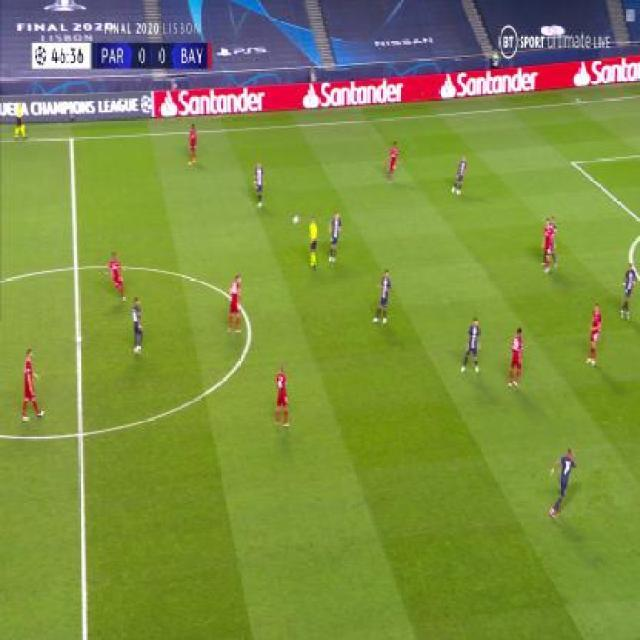ball: (293, 213, 299, 224)
player: (549, 447, 577, 521), (20, 346, 45, 420), (459, 316, 481, 375), (372, 269, 394, 326), (585, 303, 604, 366), (507, 327, 526, 390), (105, 252, 127, 303), (273, 365, 290, 430), (618, 264, 637, 321), (227, 274, 243, 337), (541, 218, 557, 274), (327, 211, 343, 264), (131, 297, 144, 356), (450, 153, 467, 196), (306, 216, 319, 272), (253, 159, 266, 210), (386, 140, 400, 183), (186, 124, 199, 164), (13, 103, 27, 140)
